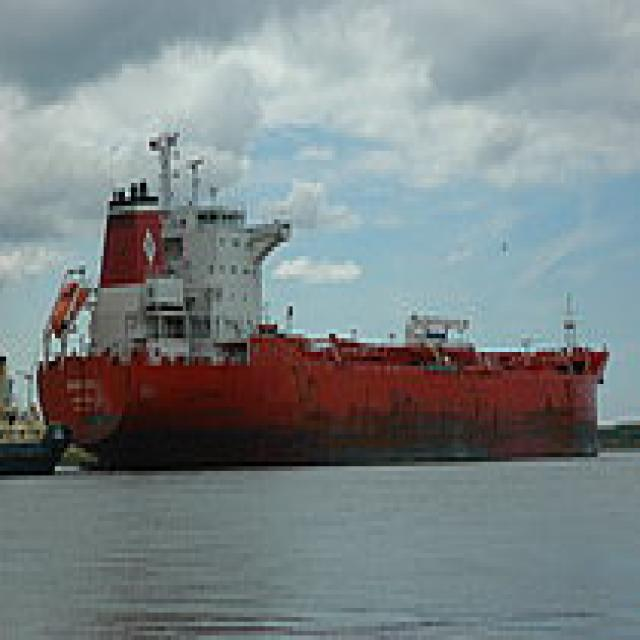Tanker: (31, 124, 606, 466)
